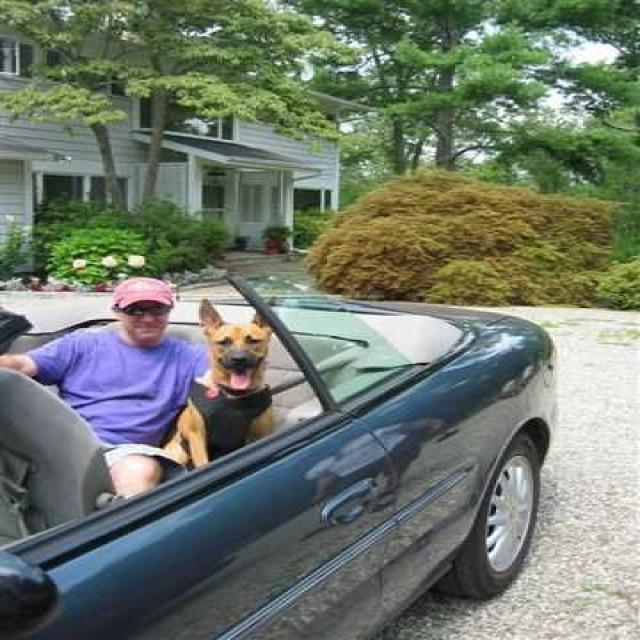seatbelt: (263, 351, 384, 396)
